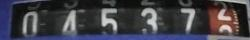digits: (138, 6, 158, 37), (20, 8, 39, 38), (179, 5, 196, 36), (62, 8, 79, 37), (100, 8, 118, 34), (216, 0, 233, 21)
